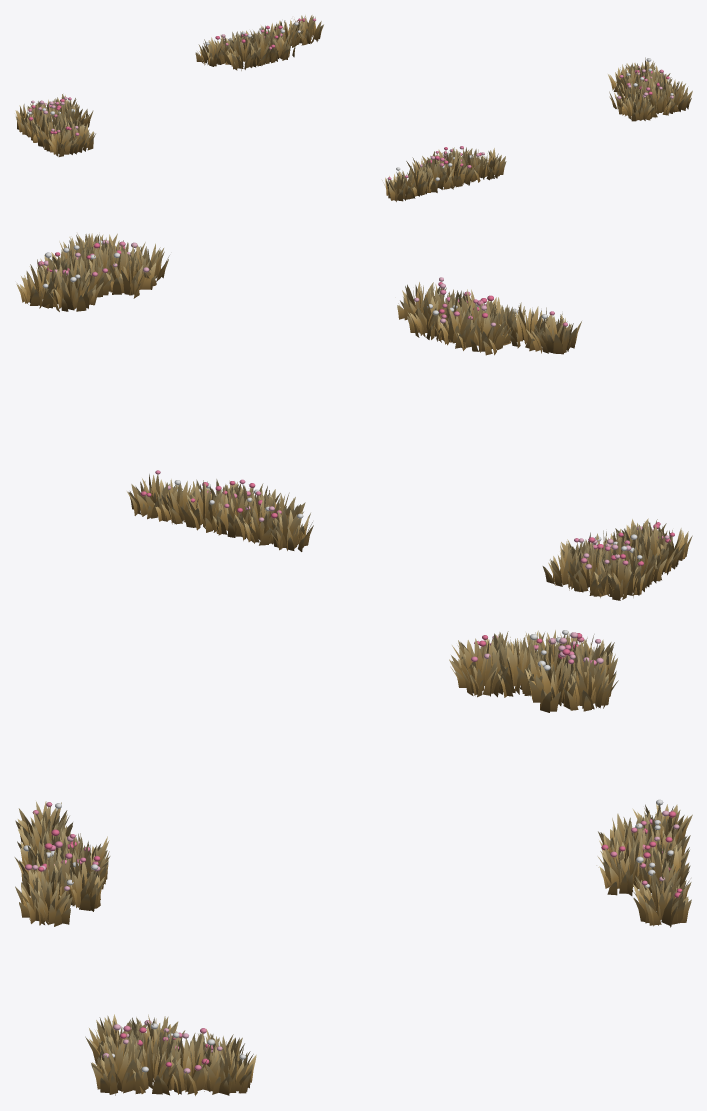
Rendered from ruins_grass.glb.
3 views of the same model, one above another, from view 1: azimuth 30°, elevation 25°; view 2: azimuth 150°, elevation 25°; view 3: azimuth 270°, elevation 25° (orthographic). The views are drawn at different scales.
Parts seen in each view (by area): view 1: Grass_4_8, Grass_16_4, Grass_18_20, Grass_30_18, Grass_15_3, Grass_29_18, Grass_15_20, Grass_17_4, Grass_16_20, Grass_17_20, Grass_19_20, Grass_31_18 (+16 smaller); view 2: Grass_30_15, Grass_29_17, Grass_4_5, Grass_17_19, Grass_18_3, Grass_18_19, Grass_5_5, Grass_16_3, Grass_15_3, Grass_15_20, Grass_17_3, Grass_31_15 (+14 smaller); view 3: Grass_20_3, Grass_5_8, Grass_20_20, Grass_31_17, Grass_31_15, Grass_6_6, Grass_31_18, Grass_6_5, Grass_5_7, Grass_31_16, Grass_18_4, Grass_19_19 (+16 smaller).
Boxes of the visible parts, x1,y1,x2,y2 form: Grass_4_8: [45, 120, 79, 156]; Grass_16_4: [220, 33, 261, 70]; Grass_18_20: [436, 152, 474, 189]; Grass_30_18: [641, 83, 674, 117]; Grass_15_3: [195, 34, 230, 66]; Grass_29_18: [621, 84, 654, 121]; Grass_15_20: [382, 172, 415, 201]; Grass_17_4: [245, 28, 278, 66]; Grass_16_20: [396, 165, 433, 198]; Grass_17_20: [419, 156, 454, 192]; Grass_19_20: [455, 146, 487, 182]; Grass_31_18: [659, 79, 692, 112]; Grass_30_15: [42, 259, 103, 311]; Grass_29_17: [102, 245, 156, 298]; Grass_4_5: [594, 554, 645, 600]; Grass_17_19: [457, 299, 512, 355]; Grass_18_3: [180, 479, 230, 532]; Grass_18_19: [434, 297, 483, 348]; Grass_5_5: [567, 537, 619, 596]; Grass_16_3: [234, 487, 284, 545]; Grass_15_3: [268, 506, 313, 551]; Grass_15_20: [526, 307, 581, 354]; Grass_17_3: [213, 486, 256, 539]; Grass_31_15: [16, 262, 66, 308]; Grass_20_3: [633, 869, 691, 927]; Grass_5_8: [449, 637, 508, 697]; Grass_20_20: [15, 865, 72, 926]; Grass_31_17: [130, 1032, 180, 1095]; Grass_31_15: [201, 1036, 256, 1095]; Grass_6_6: [525, 651, 576, 712]; Grass_31_18: [91, 1038, 142, 1095]; Grass_6_5: [563, 652, 618, 711]; Grass_5_7: [492, 634, 546, 697]; Grass_31_16: [168, 1037, 221, 1095]; Grass_18_4: [596, 835, 649, 895]; Grass_19_19: [54, 848, 105, 911].
Bounding box in the file's own units: 14.32 × 0.7295 × 9.37.
